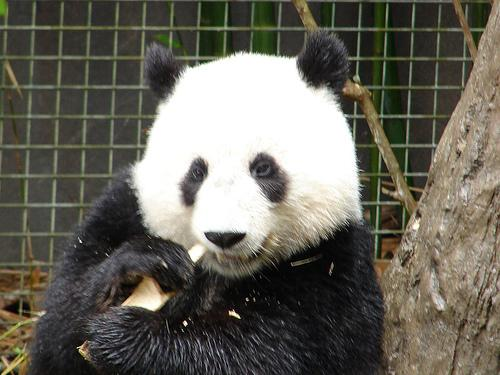panda: (30, 29, 382, 374)
